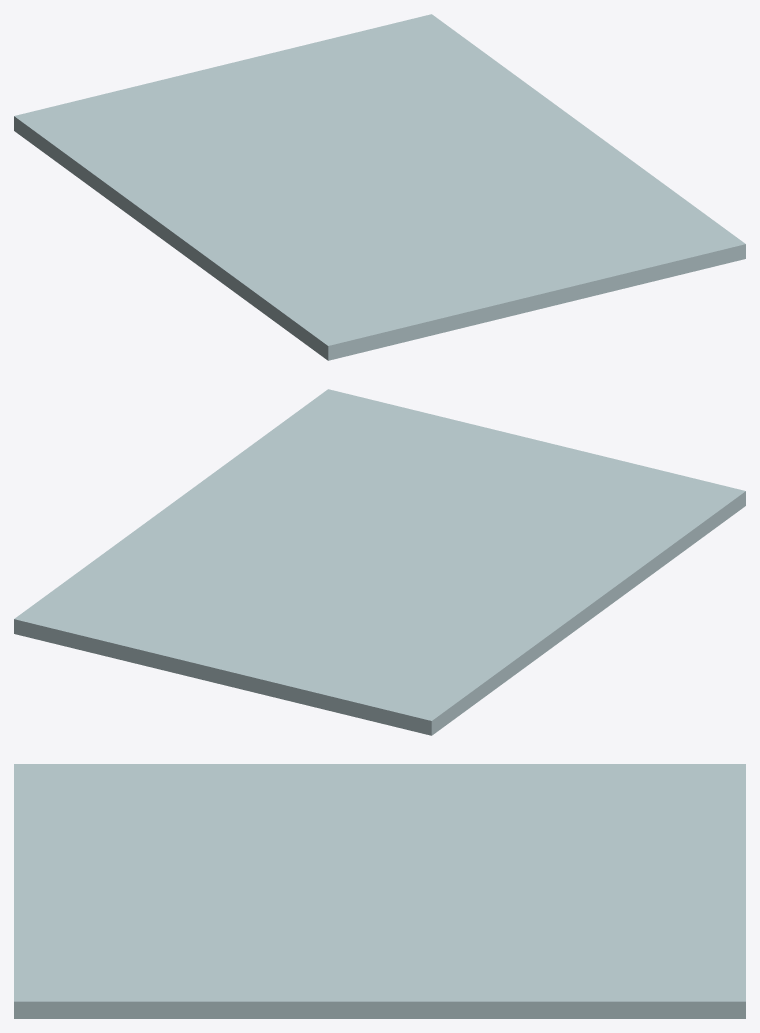
The model's file is techo.fbx.
3 renders of one model, top to bottom at view 1: azimuth 30°, elevation 25°; view 2: azimuth 150°, elevation 25°; view 3: azimuth 270°, elevation 25°, orthographic. The views are drawn at different scales.
Visible parts, largest first — view 1: Techo; view 2: Techo; view 3: Techo.
Boxes of the visible parts, left/top/right/bottom form: Techo: left=14, top=14, right=745, bottom=360; Techo: left=14, top=389, right=745, bottom=735; Techo: left=14, top=764, right=745, bottom=1018.
Size of the model in its own units: 1446 by 109 by 1883.
